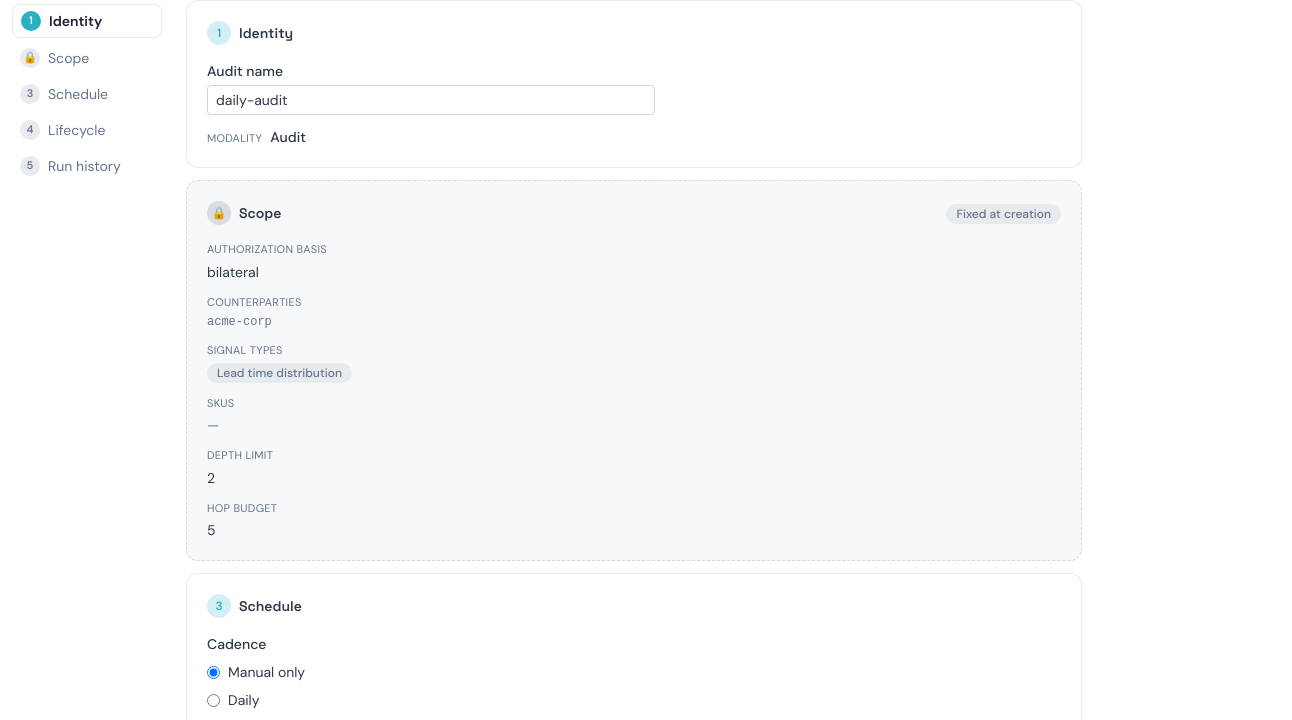
TemplateEditor › shows no save bar until a field changes
The width and height of the screenshot is (1292, 720).
Expected: the button "save changes" is not shown
Type "X" into the field labelled "Audit name".
click(431, 100); type("X")  # box [207,85,655,115]
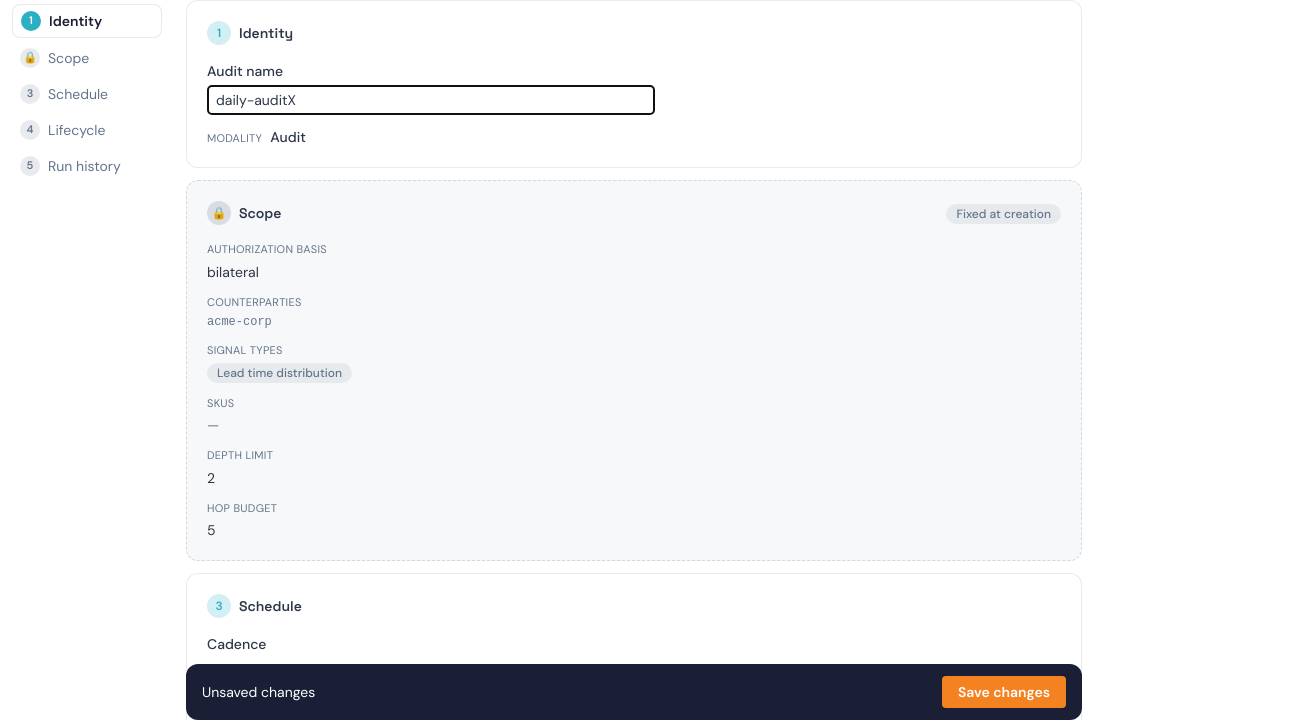
Expected: the button "Save changes" is shown, [942,676,1066,708]
